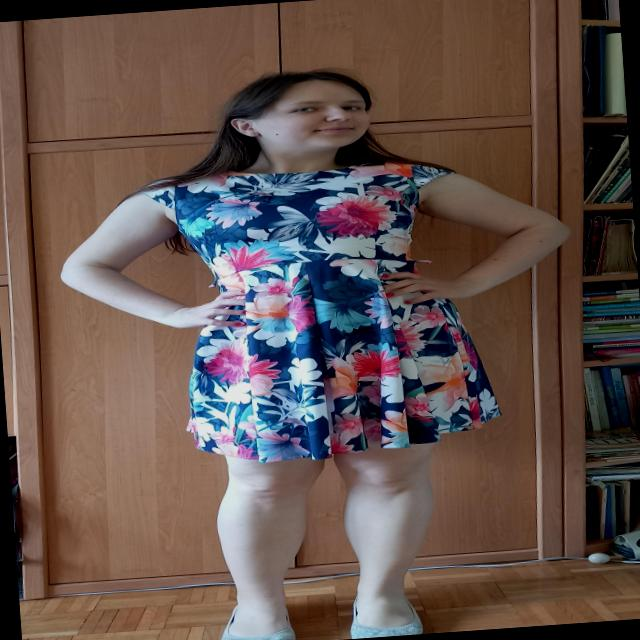dress: (136, 154, 503, 470)
